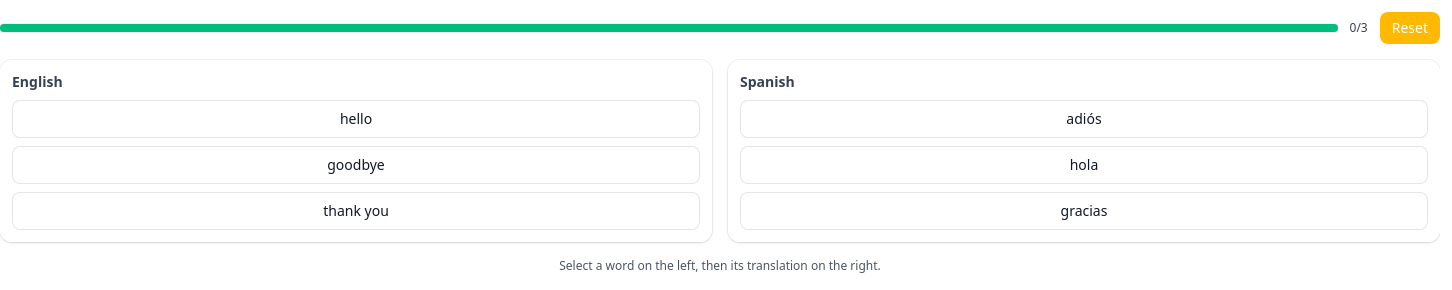
Test: WordMatcher › resets game when reset button is clicked
The image size is (1452, 290).
Make a match first
Step 1. Click the button with aria-label "select hello" → (356,119), box [12,100,700,138]
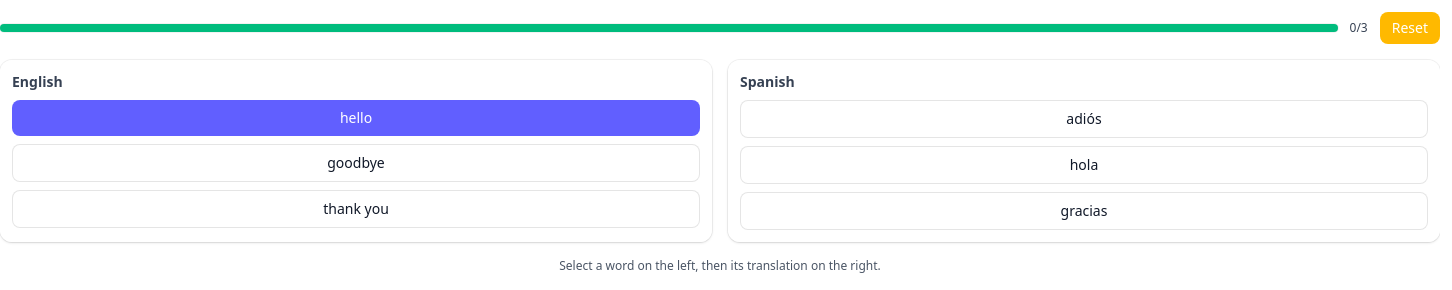
Step 2. Click the button with aria-label "choose hola" → (1084,165), box [740,146,1428,184]
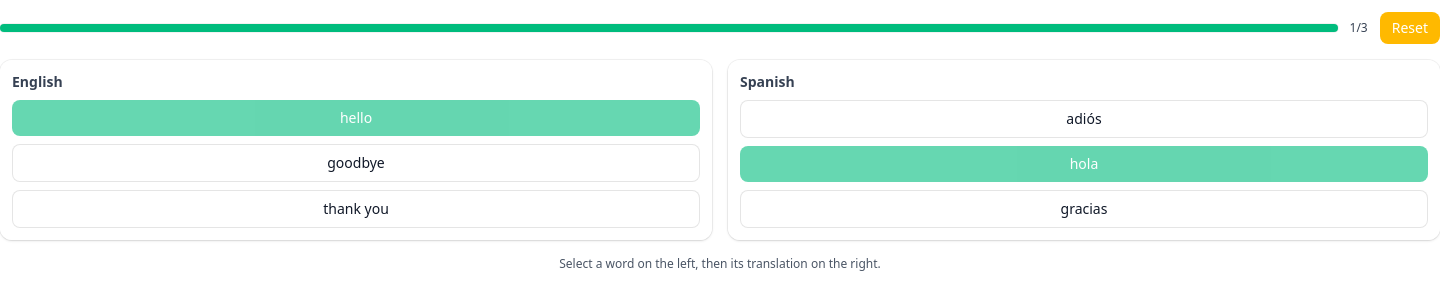
Result: the text "1/3" is shown at [1350,20,1368,36]
Click reset
Step 3. Click the button "Reset" → (1410,28), box [1380,12,1440,44]
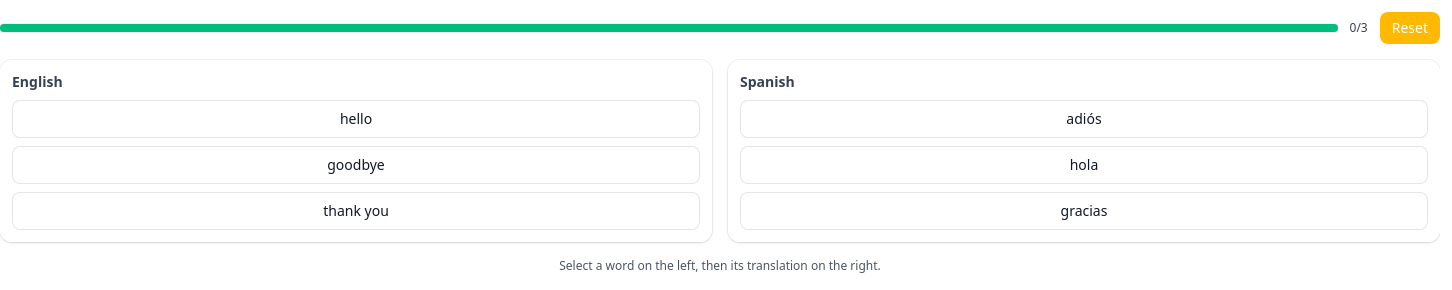
Result: the text "0/3" is shown at [1350,20,1368,36]
